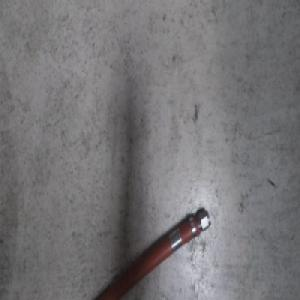Hose: (64, 205, 211, 300)
